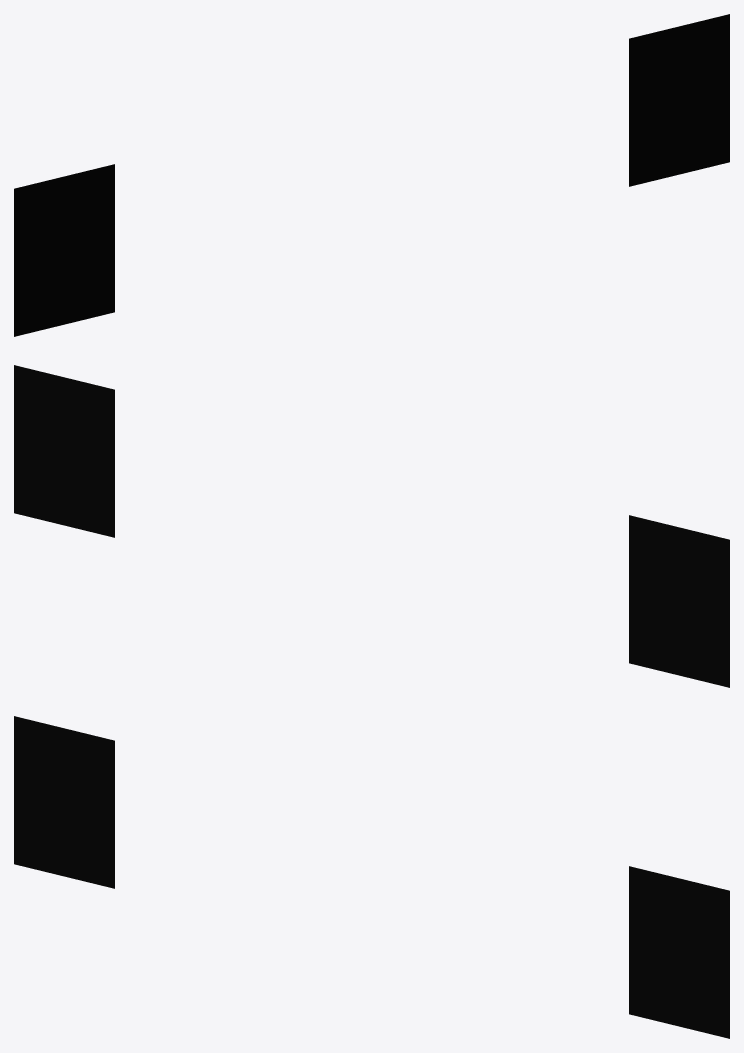
3 views of the same model, one above another, from view 1: azimuth 30°, elevation 25°; view 2: azimuth 150°, elevation 25°; view 3: azimuth 330°, elevation 25° (orthographic).
Visible parts, largest first — view 1: Joint_0_Object_0; view 2: Joint_0_Object_0; view 3: Joint_0_Object_0.
Part boxes in pixels (x1,y1,x2,y2): Joint_0_Object_0: (14, 14, 729, 336); Joint_0_Object_0: (14, 365, 729, 687); Joint_0_Object_0: (14, 716, 729, 1038).
Size of the model in its own units: 49.9 by 9.87 by 0.
1 material, 1 textured.
